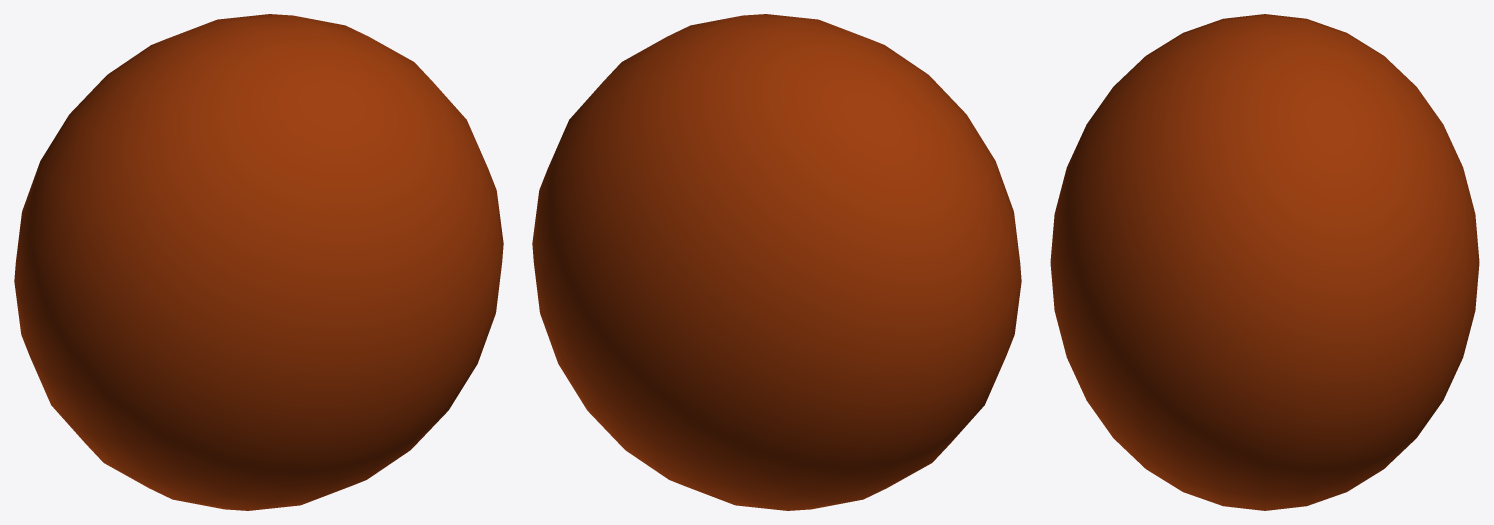
Rendered from tomato_plant_fruiting_1_fruit_3.obj.
3 views of the same model, side by side, from view 1: azimuth 30°, elevation 25°; view 2: azimuth 150°, elevation 25°; view 3: azimuth 270°, elevation 25° (orthographic).
Bounding box in the file's own units: 0.0619 × 0.0619 × 0.0533.
